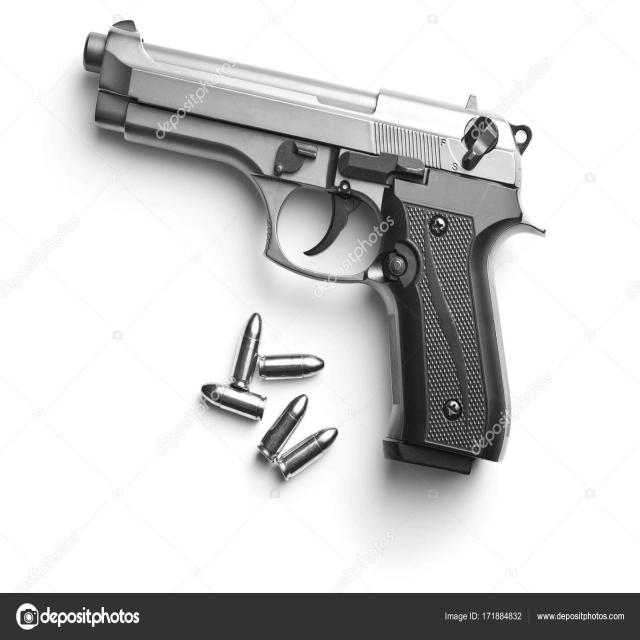Hand-Gun: (76, 5, 548, 515)
